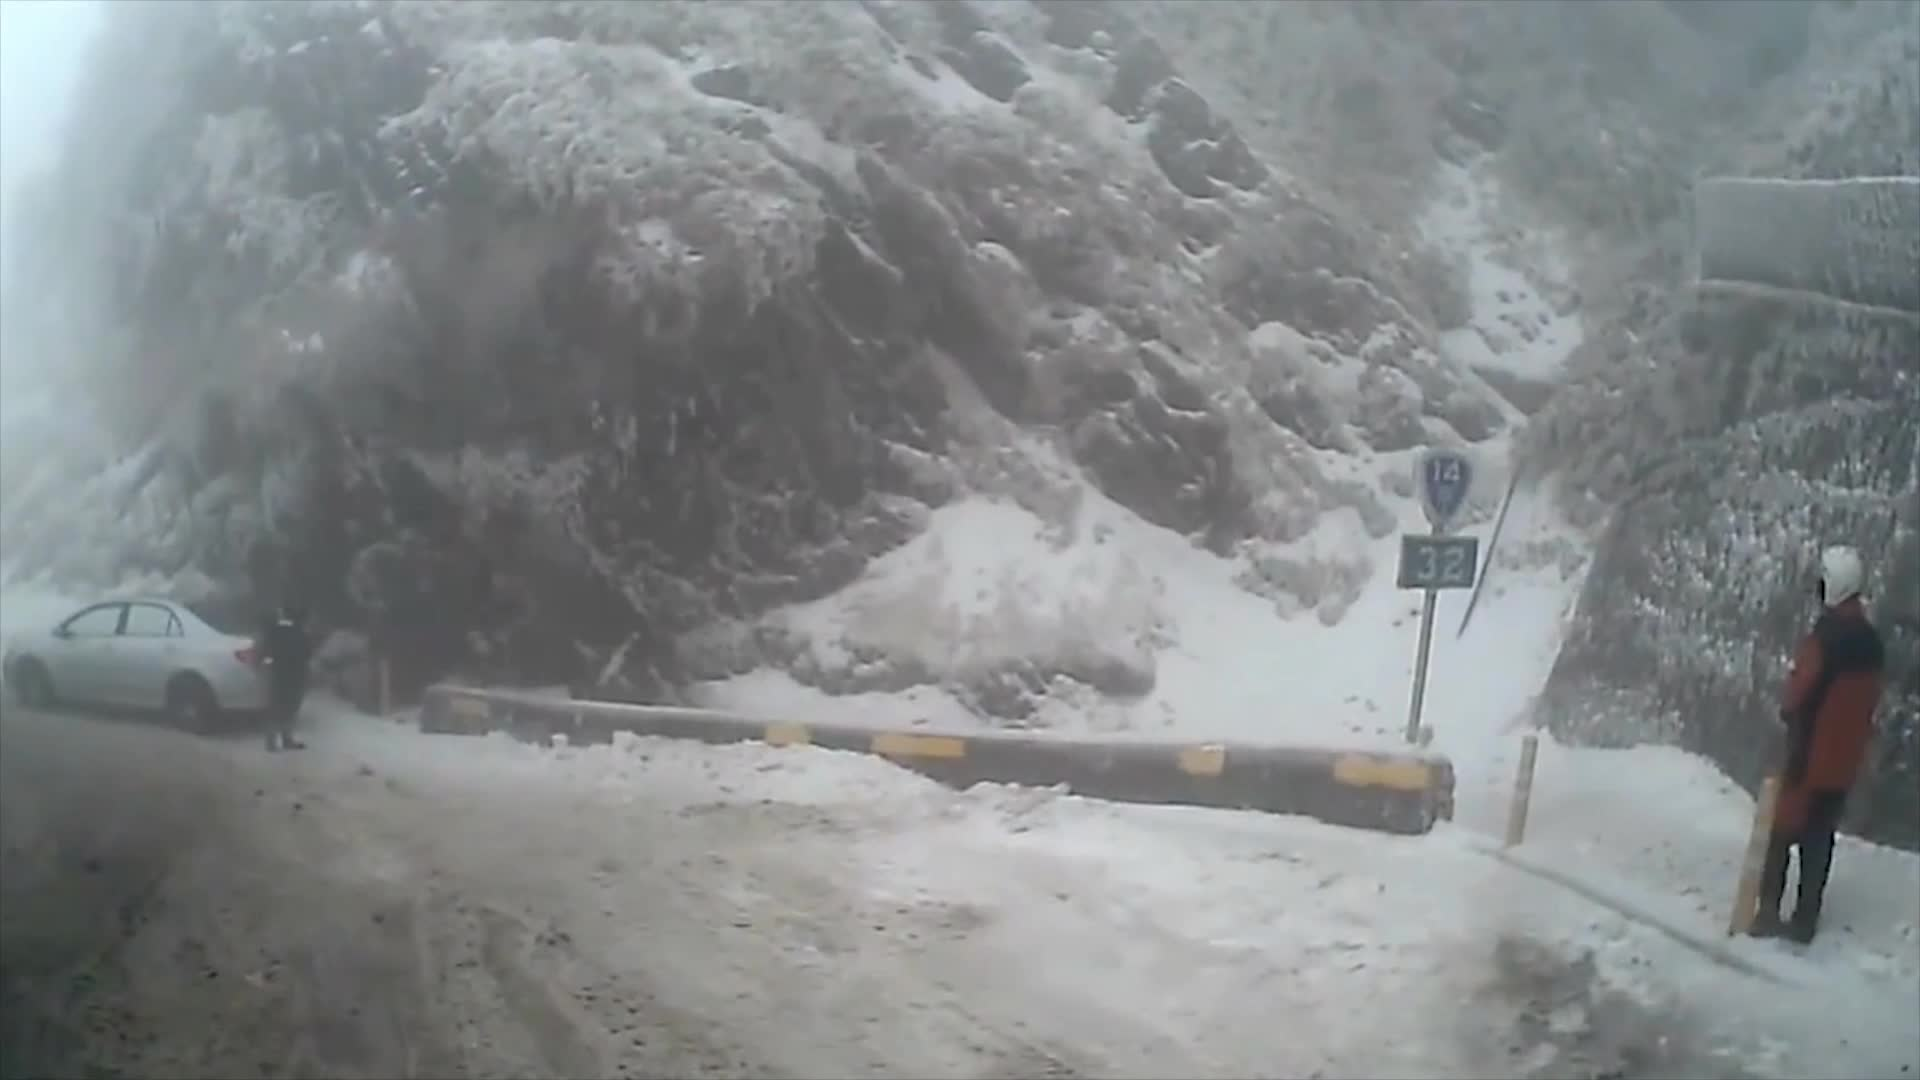pedestrian: (1745, 548, 1890, 941), (258, 599, 314, 757)
vehicle: (2, 595, 290, 738)
